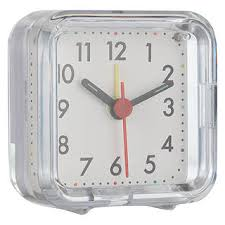alarm_clock: (9, 8, 215, 216)
